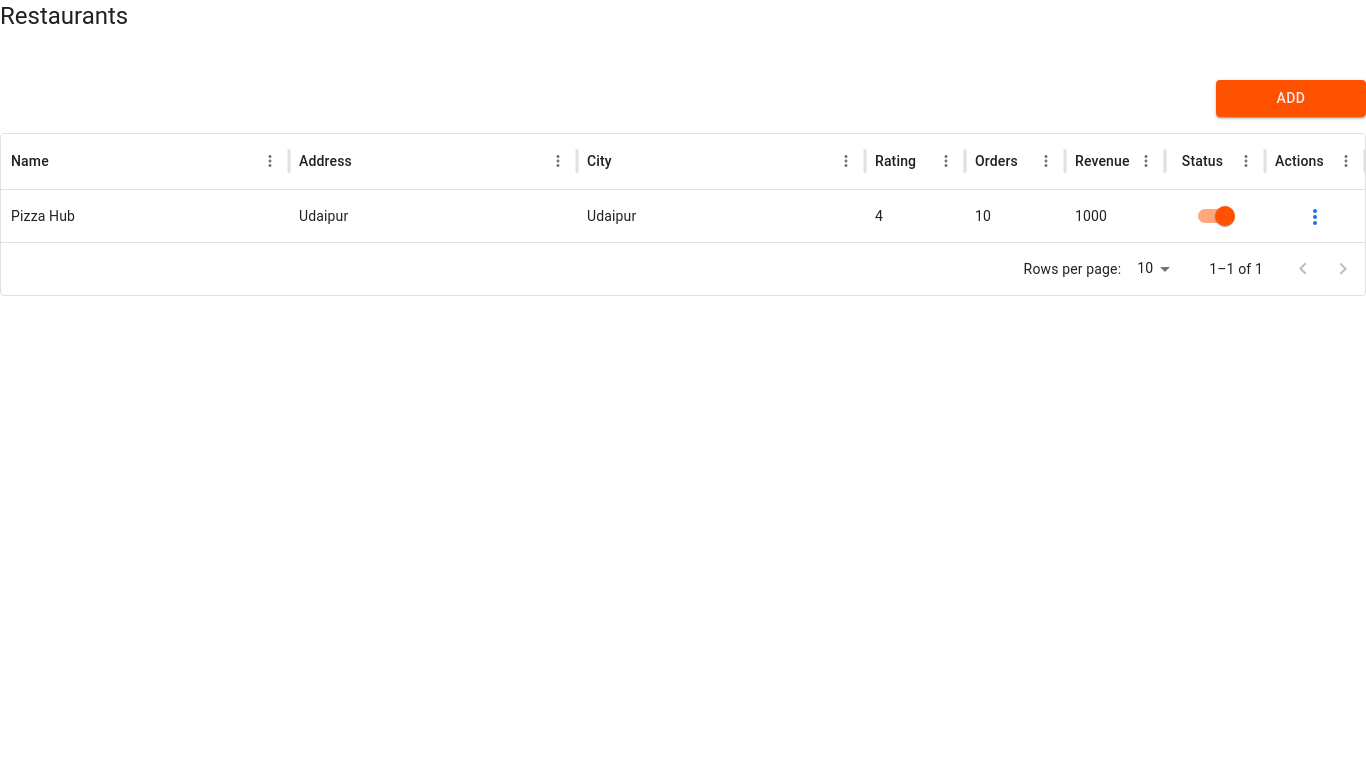
Test case: Add Restaurant Flow (super_admin) › Name field validation › shows error when name is shorter than 3 characters
Click the button with test id "add-restaurant-button" at point(1291, 98), box x1=1216 y1=80 x2=1365 y2=116
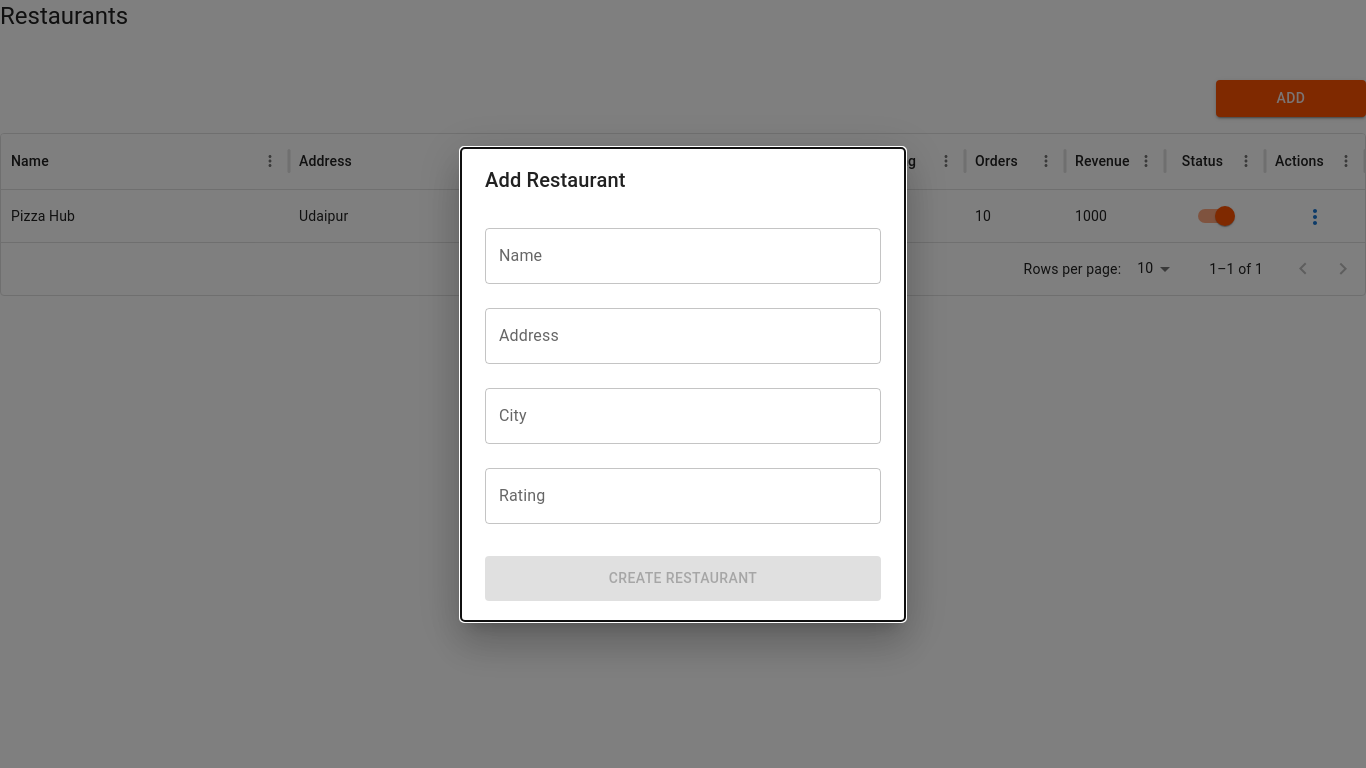
Type "ab" into the field labelled "Name" at point(683, 256), box x1=485 y1=228 x2=881 y2=284
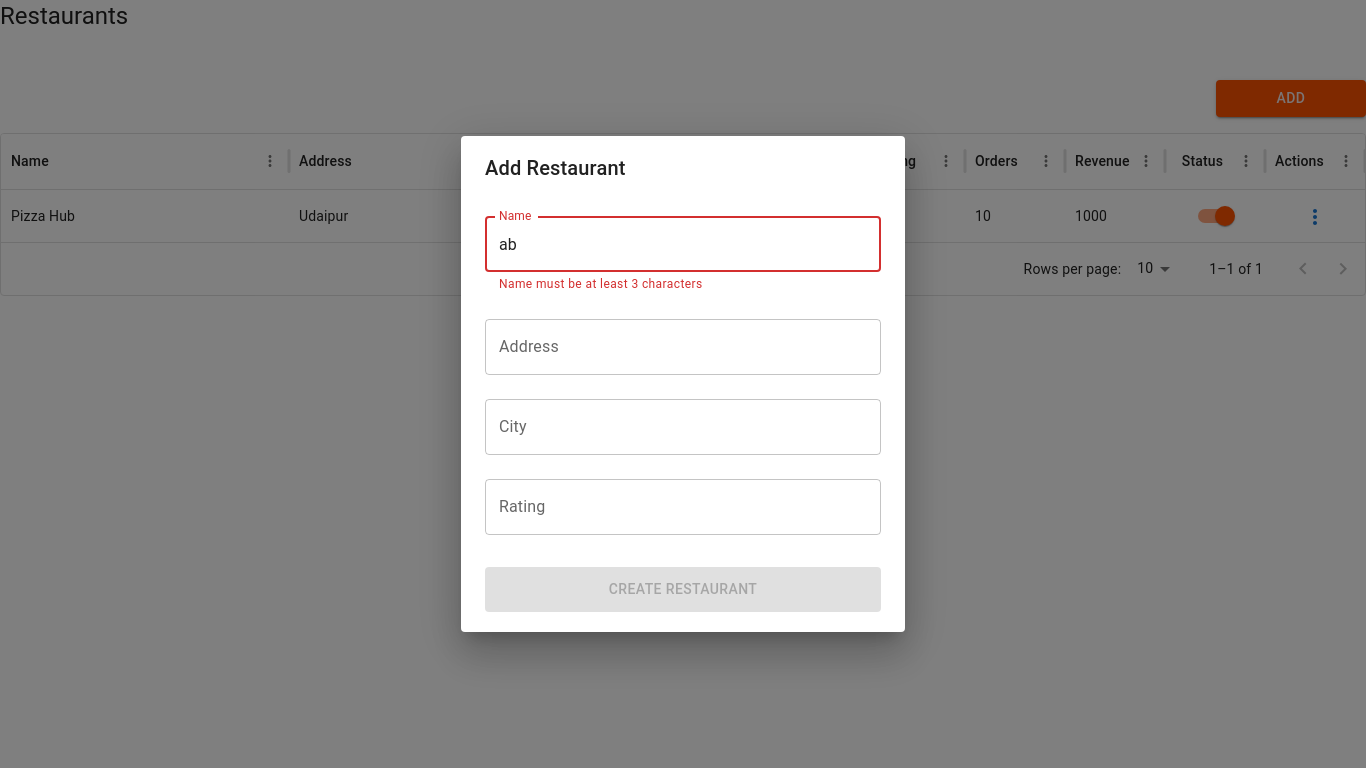
Expected: the text "Name must be at least 3 characters" is shown, x1=499 y1=277 x2=702 y2=291
